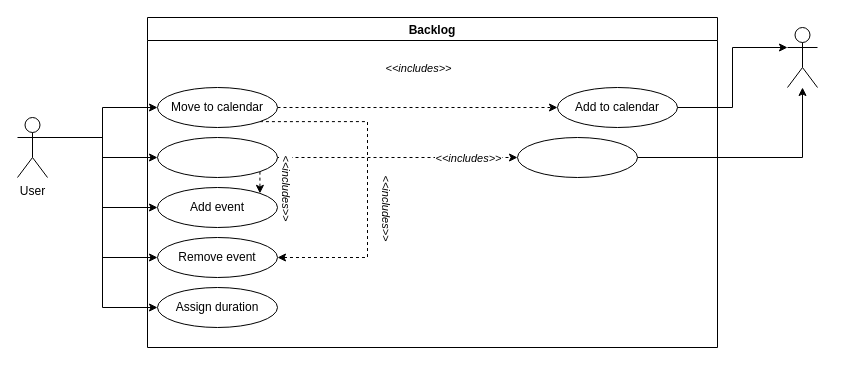
Some shapes in this 859 by 365 pixel diagram are drawn without their labels. Each missing label, with the centre of its shape:
"Calendar View" belongs at point (802, 57).
"Move from calendar" belongs at point (217, 157).
"Remove from calendar" belongs at point (577, 157).
